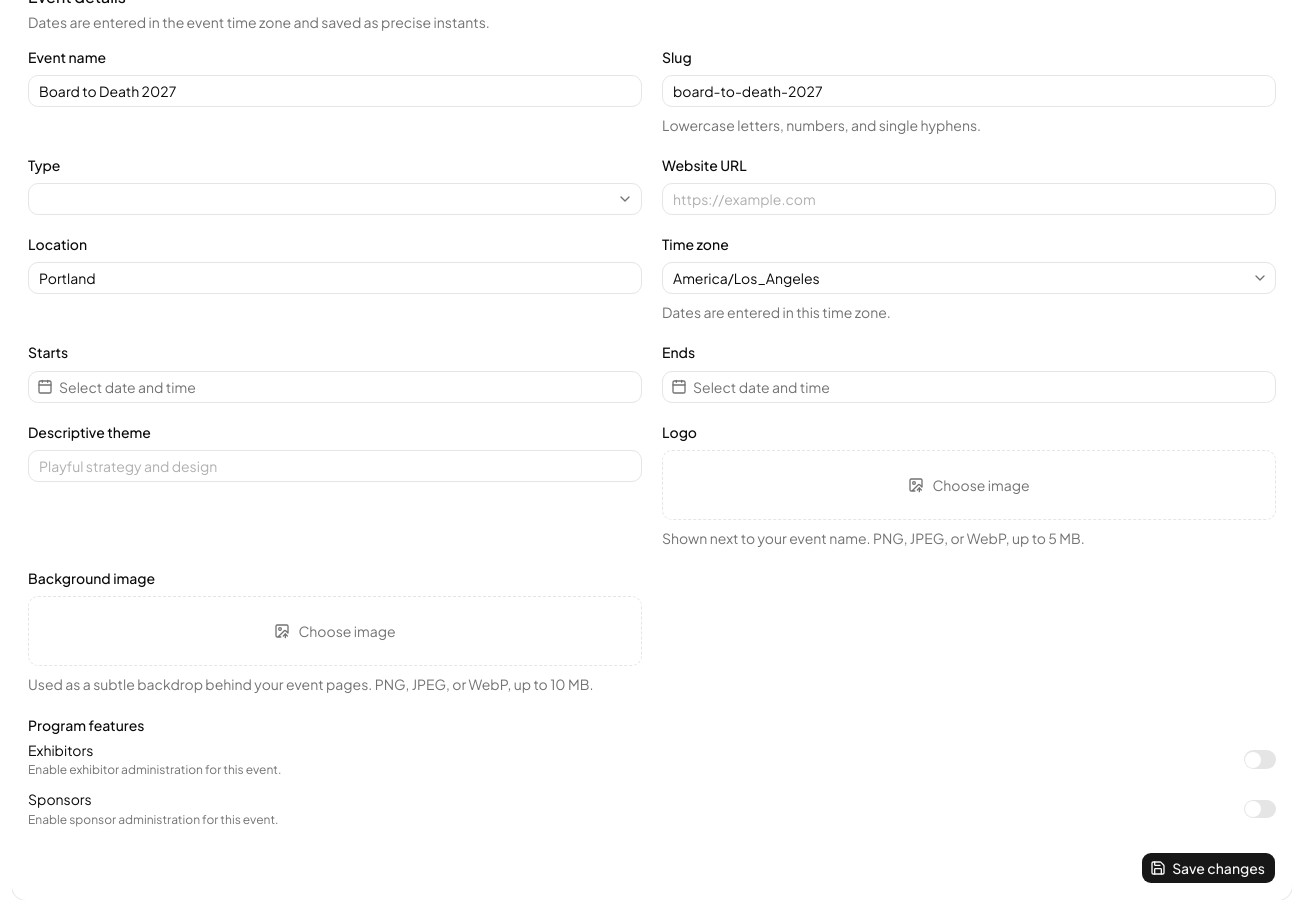
Scenario: EventSettingsWorkspace › renders field-level server validation and applies a successful room snapshot
(page scrolled)
Submit the form
(page scrolled)
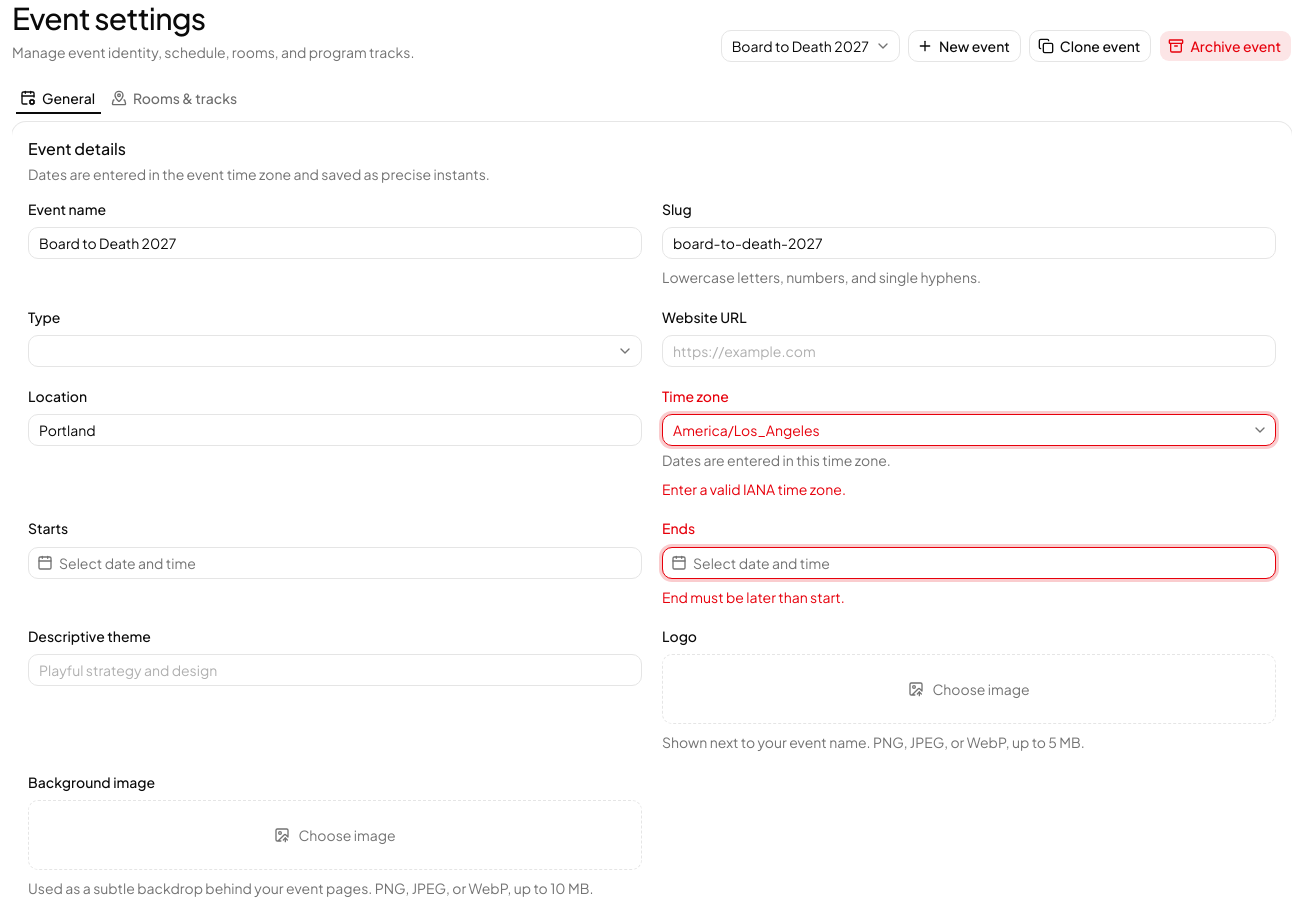
Expected: the text "Enter a valid IANA time zone." is shown, [662,480,846,498]
Expected: the text "End must be later than start." is shown, [662,588,845,606]
Press the mouse on the tab "Rooms & tracks" at (175, 98), box [106,85,244,110]
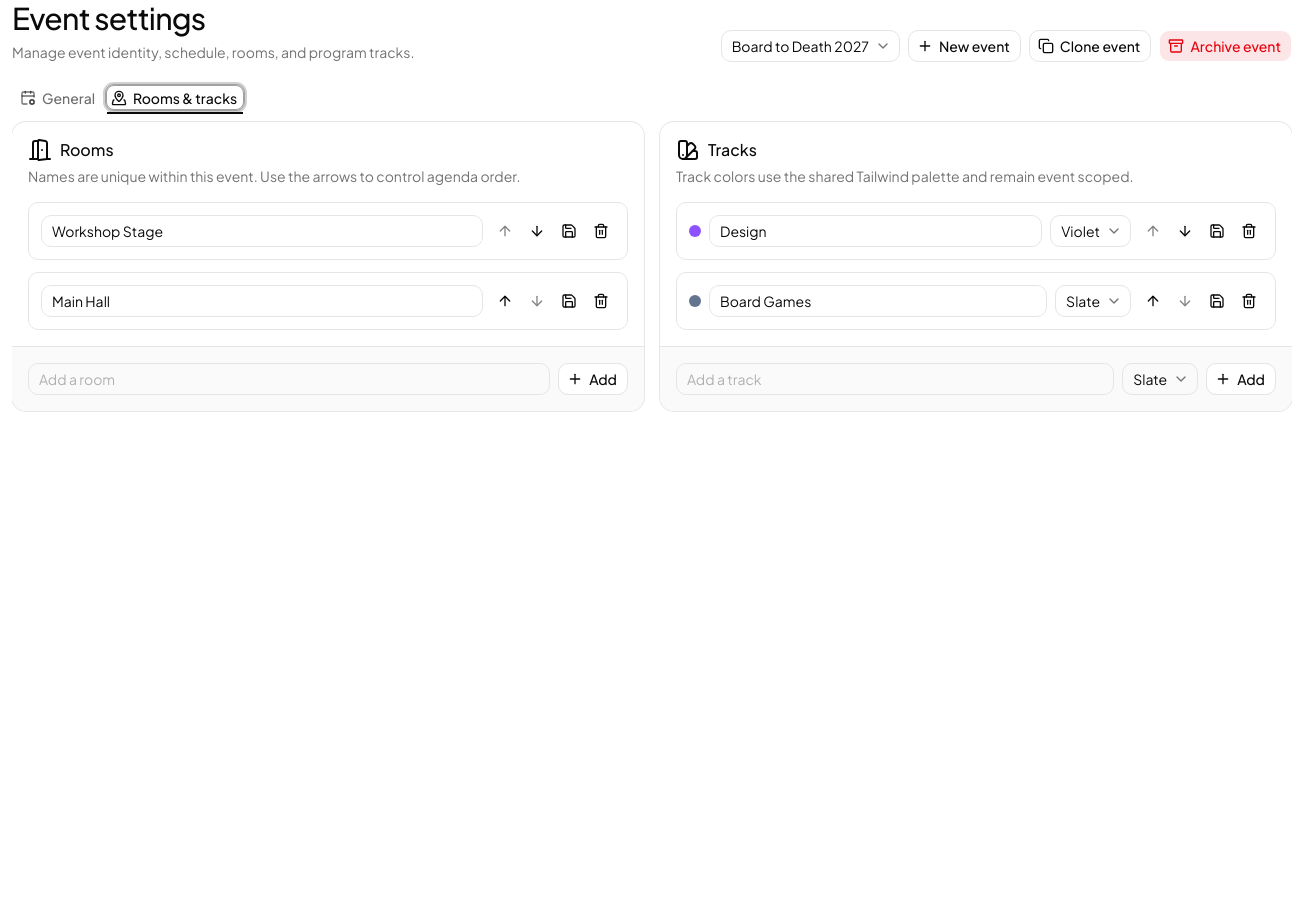
Type "Quiet Room" into the field named "New room name". click: (289, 378)
box: [28,362,550,394]
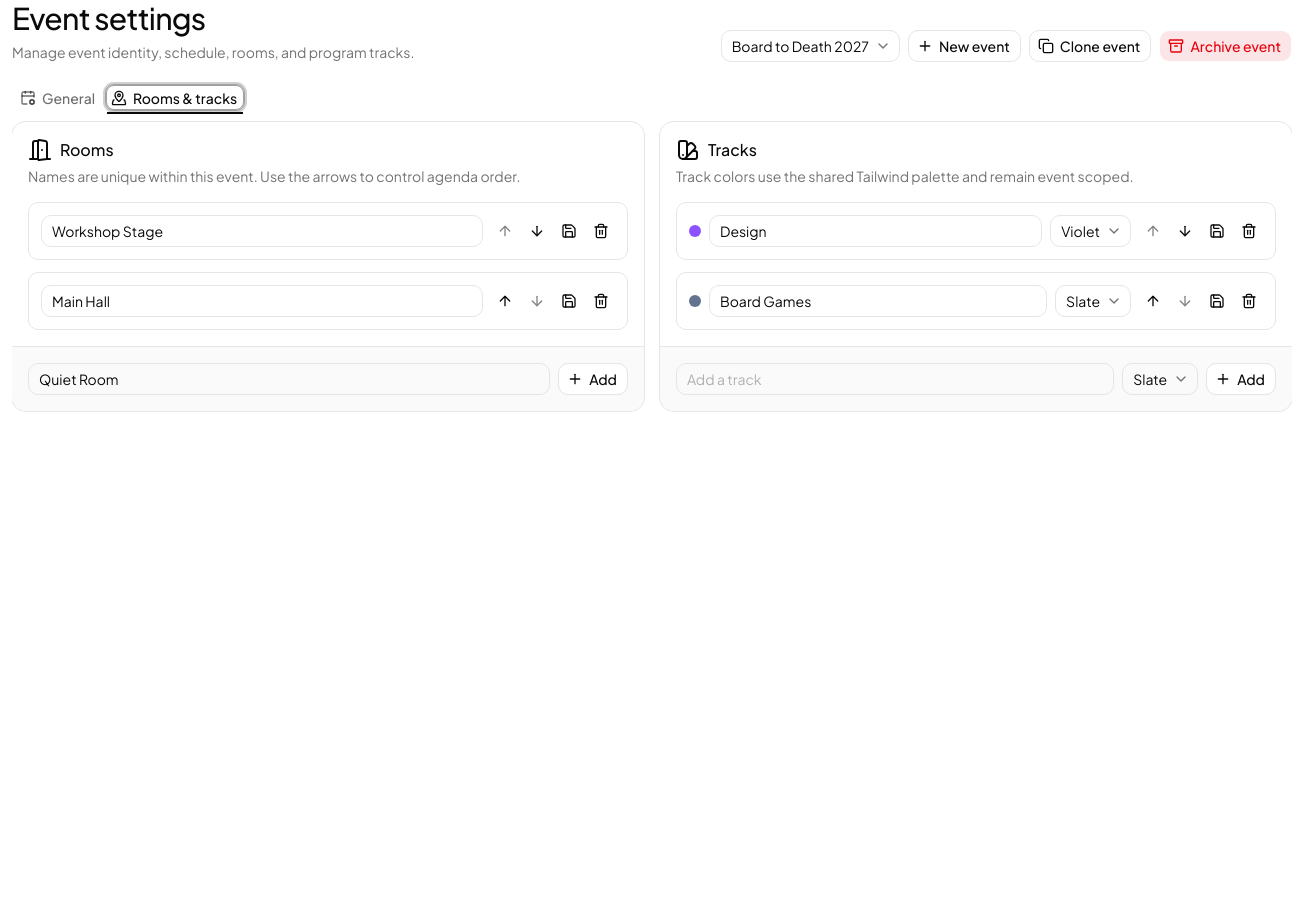
Submit the form named "New room name", box [28,362,628,394]
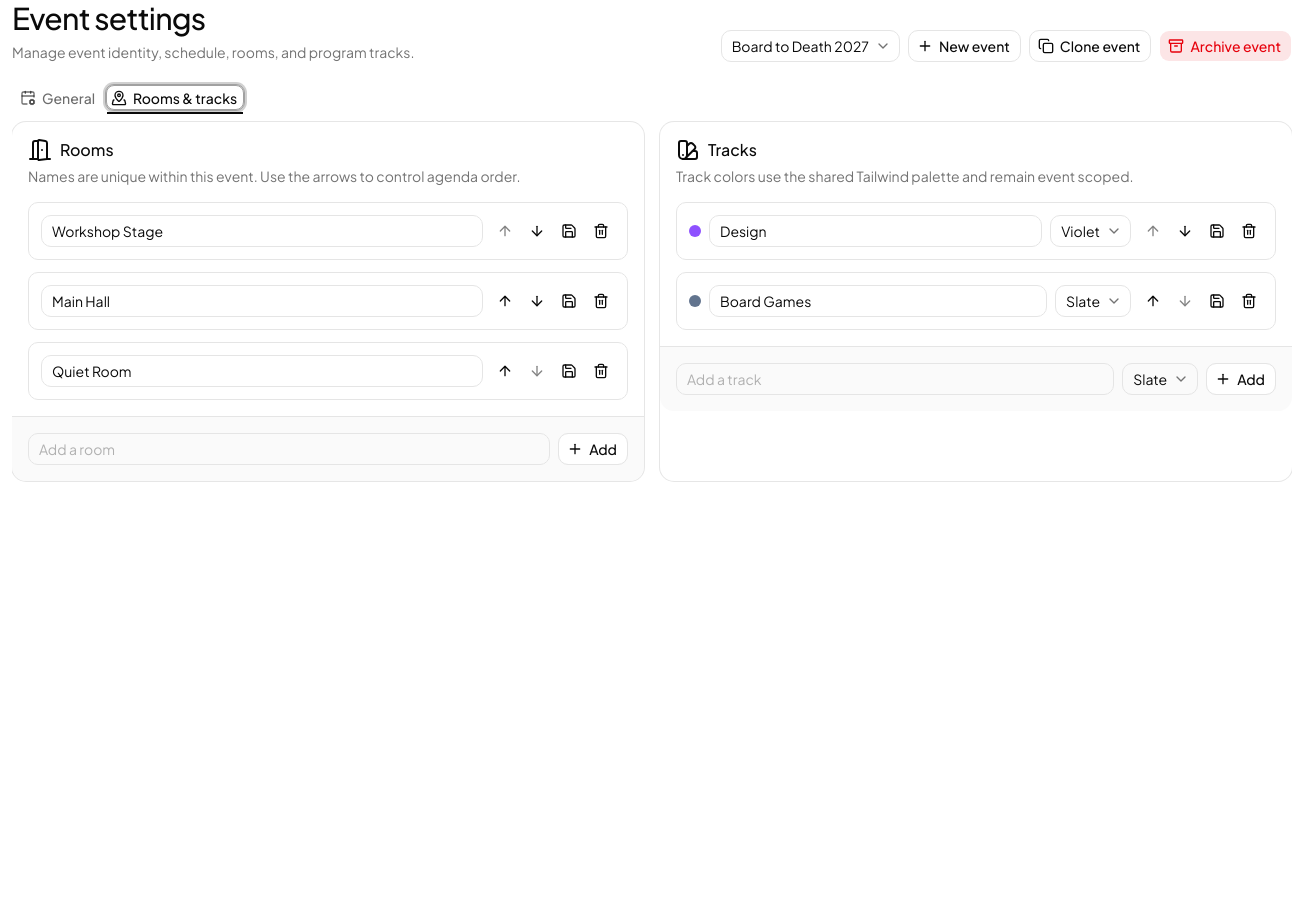
Expected: the 3rd field showing "Quiet Room" is shown, [41,354,483,386]
